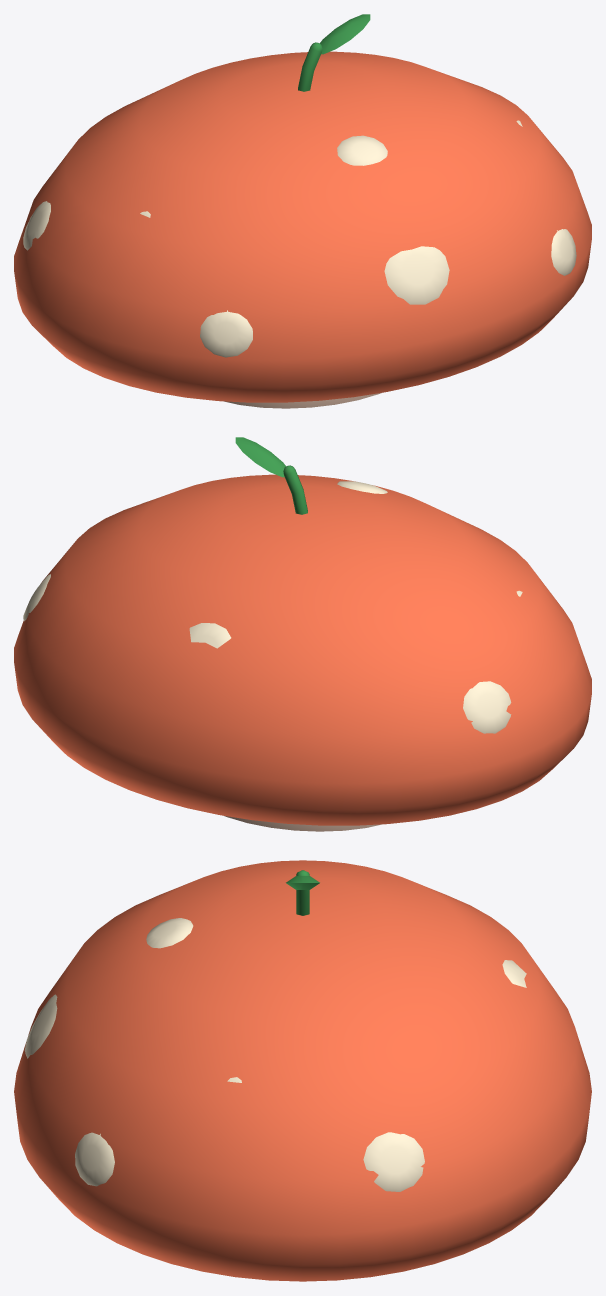
Rendered from mushroom_cap.glb.
3 renders of one model, top to bottom at view 1: azimuth 30°, elevation 25°; view 2: azimuth 150°, elevation 25°; view 3: azimuth 270°, elevation 25°, orthographic. The views are drawn at different scales.
Parts seen in each view (by area): view 1: mushroom_cap; view 2: mushroom_cap; view 3: mushroom_cap.
Part boxes in pixels (x1,y1,x2,y2): mushroom_cap: (14, 14, 591, 408); mushroom_cap: (14, 437, 591, 831); mushroom_cap: (14, 860, 591, 1281).
Size of the model in its own units: 0.78 by 0.471 by 0.663.
